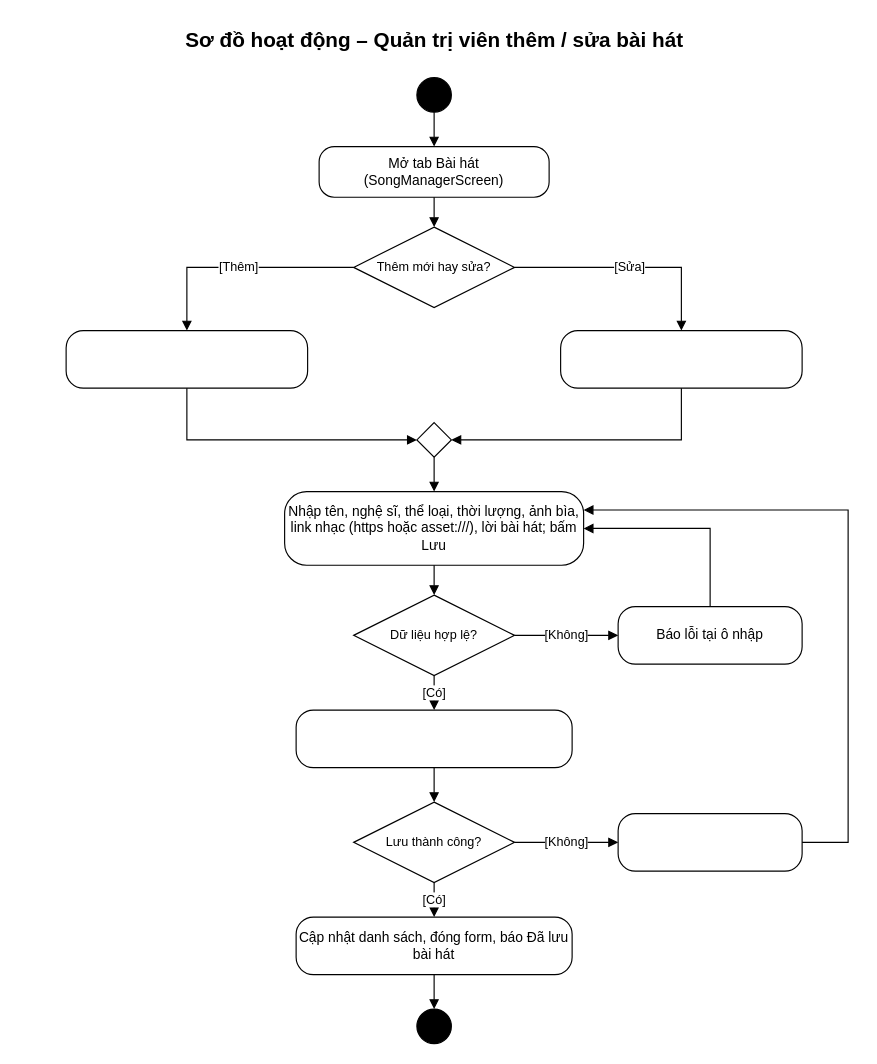
Some shapes in this 877 by 1064 pixel diagram are drawn without their labels. Each missing label, with the centre of its shape:
addSong() / editSong() → lưu vào bảng songs (Supabase): (433,738)
Bấm nút Thêm bài hát, mở SongFormSheet trống: (186,358)
Chọn một bài, mở SongFormSheet có sẵn dữ liệu: (680,358)
SnackBar báo lỗi, giữ nguyên form: (709,841)
